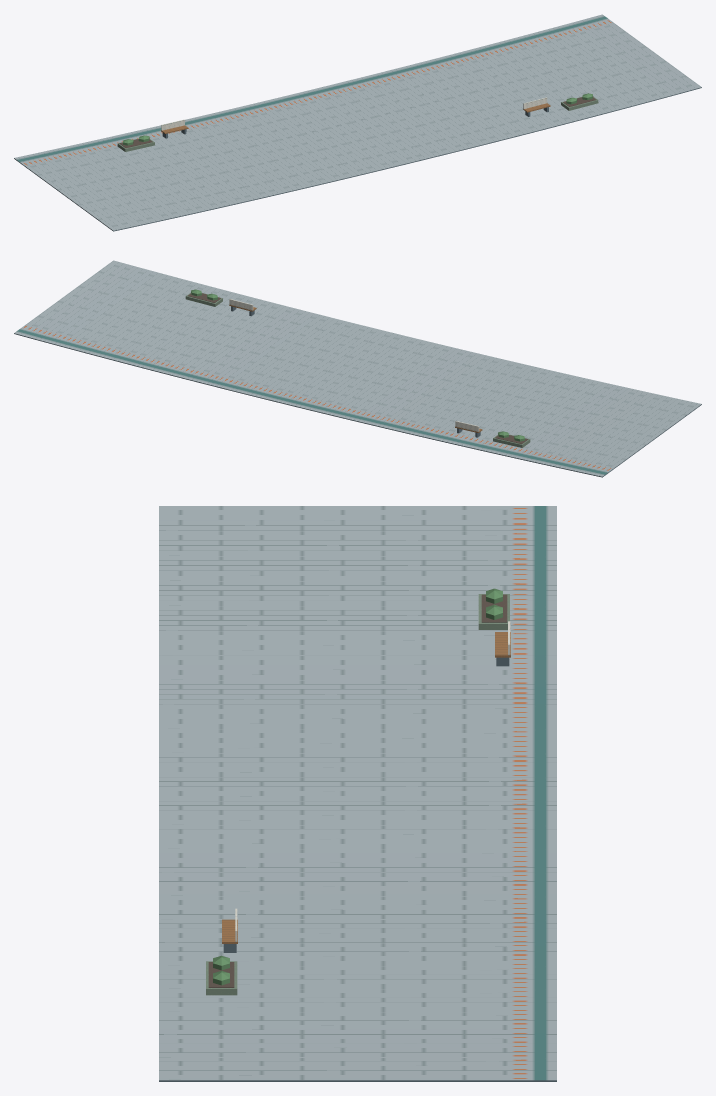
File: TorusDistrict_Terrace16.obj
The picture shows the model from 3 angles, top to bottom: view 1: azimuth 30°, elevation 25°; view 2: azimuth 150°, elevation 25°; view 3: azimuth 270°, elevation 25°; orthographic projection. The views are drawn at different scales.
Visible parts, largest first — view 1: TorusDistrict_Terrace16; view 2: TorusDistrict_Terrace16; view 3: TorusDistrict_Terrace16.
Part boxes in pixels (x1=…): TorusDistrict_Terrace16: x1=14, y1=14, x2=701, y2=231; TorusDistrict_Terrace16: x1=14, y1=260, x2=701, y2=477; TorusDistrict_Terrace16: x1=159, y1=506, x2=556, y2=1081.
Bounding box in the file's own units: 11.96 × 0.2641 × 3.5.
Materials: 1 (1 with a texture image).
